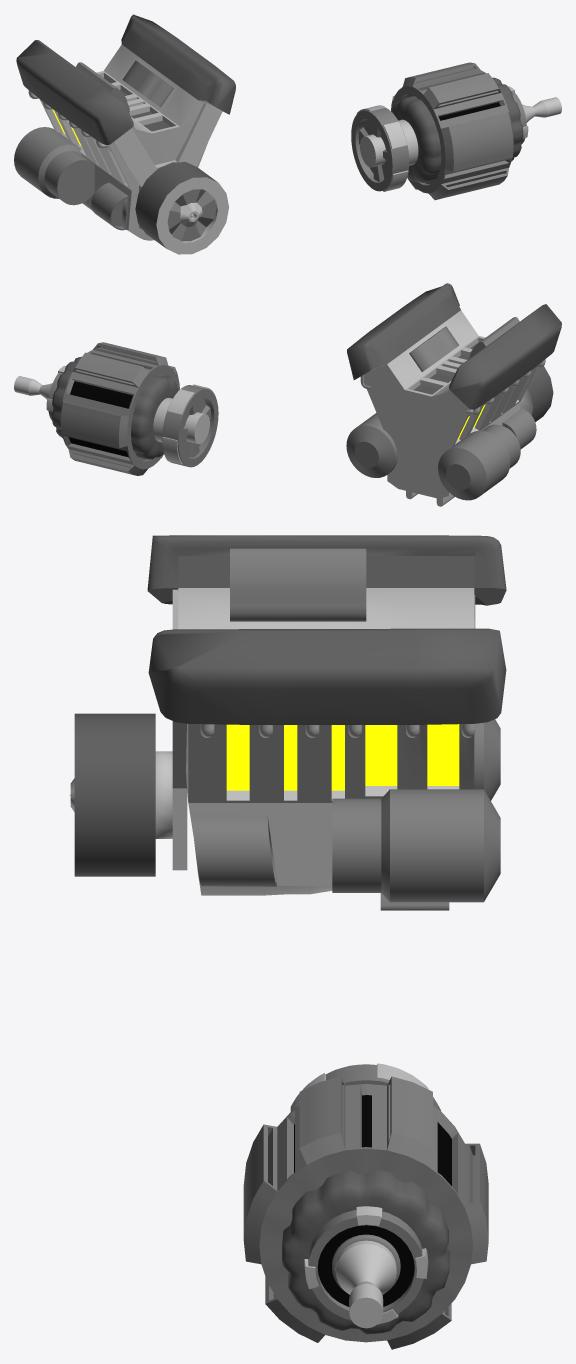
Rendered from EnginesFuture.fbx.
3 renders of one model, top to bottom at view 1: azimuth 30°, elevation 25°; view 2: azimuth 150°, elevation 25°; view 3: azimuth 270°, elevation 25°, orthographic. The views are drawn at different scales.
Parts seen in each view (by area): view 1: Cylinder.002, Cylinder; view 2: Cylinder.002, Cylinder; view 3: Cylinder.002, Cylinder.
Part boxes in pixels (box(x1,y1,x2,y2)): Cylinder.002: box(14, 14, 235, 254); Cylinder: box(351, 62, 561, 200); Cylinder.002: box(346, 283, 561, 506); Cylinder: box(14, 342, 218, 475); Cylinder.002: box(69, 535, 506, 910); Cylinder: box(243, 1063, 488, 1349).
Size of the model in its own units: 270 by 109 by 103.
